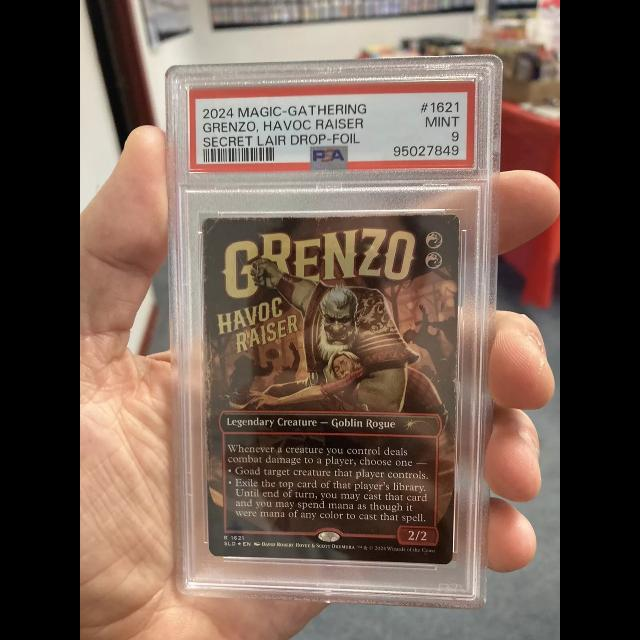card: (203, 215, 460, 565)
psa_label: (189, 80, 476, 172)
psa_slab: (166, 53, 504, 610)
